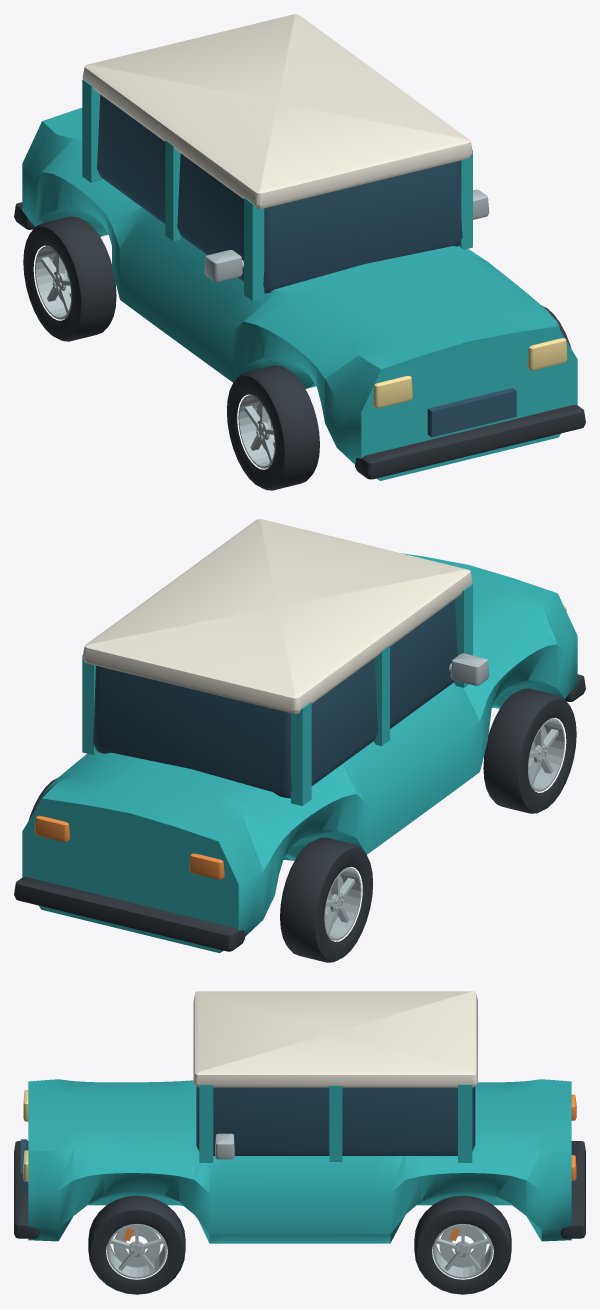
The model's file is street_compact.glb.
3 views of the same model, one above another, from view 1: azimuth 30°, elevation 25°; view 2: azimuth 150°, elevation 25°; view 3: azimuth 270°, elevation 25° (orthographic). The views are drawn at different scales.
Visible parts, largest first — view 1: city-hatchback, wheel-front-left (×2), wheel-rear-left (×2); view 2: city-hatchback, wheel-rear-left (×2), wheel-front-left (×2); view 3: city-hatchback, wheel-front-right (×2), wheel-rear-right (×2).
Boxes of the visible parts, box(x1,y1,x2,y2) form: city-hatchback: box(14, 14, 585, 480); wheel-front-left (×2): box(227, 365, 319, 490); wheel-rear-left (×2): box(23, 216, 116, 341); city-hatchback: box(14, 519, 585, 952); wheel-rear-left (×2): box(280, 837, 373, 962); wheel-front-left (×2): box(483, 688, 576, 813); city-hatchback: box(14, 991, 585, 1243); wheel-front-right (×2): box(88, 1195, 185, 1294); wheel-rear-right (×2): box(414, 1195, 511, 1294).
Bounding box in the file's own units: 1.91 × 1.6 × 4.
